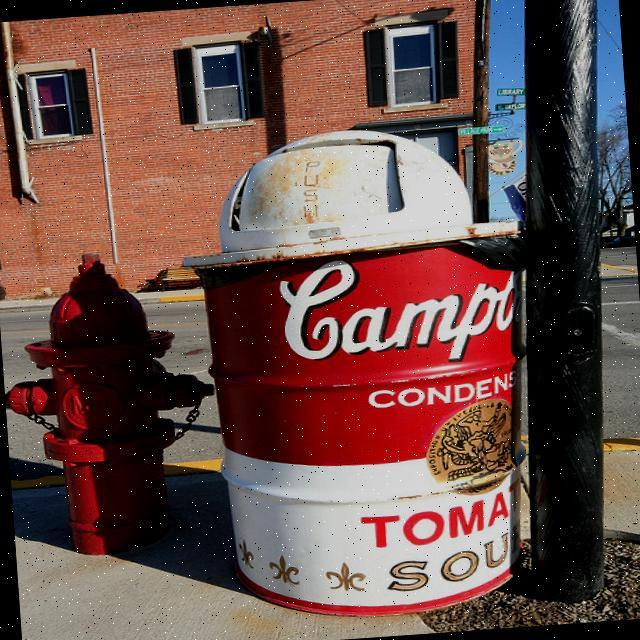fire_hydrant: (0, 247, 228, 563)
